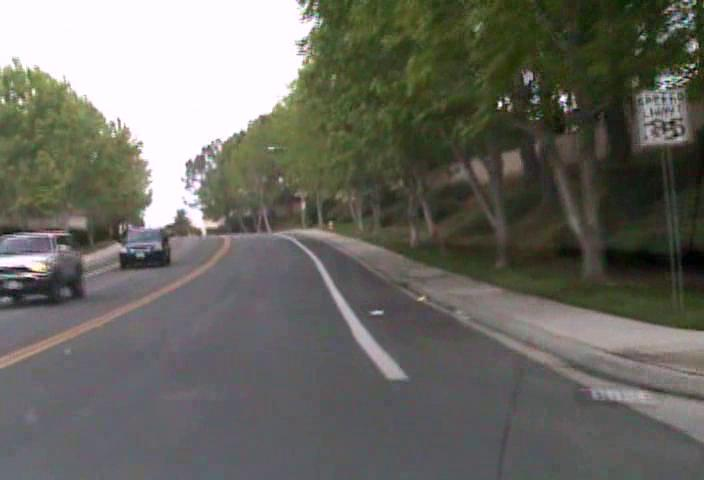speedLimit35: (633, 85, 693, 148)
